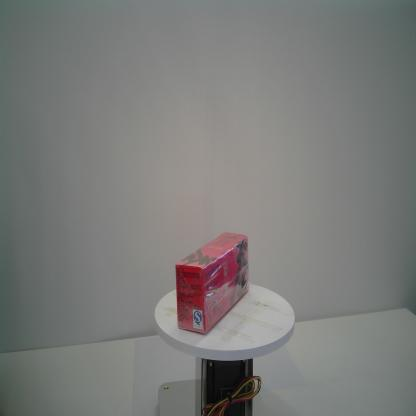Instant Drink: (176, 232, 249, 334)
